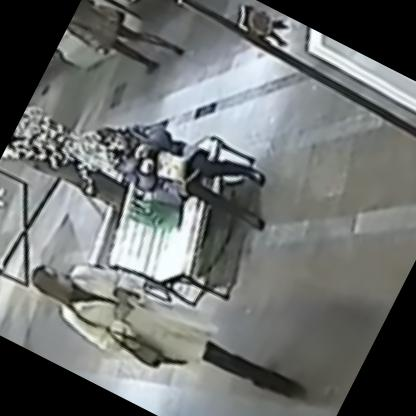Human Body: (14, 239, 310, 415), (81, 92, 288, 249), (63, 0, 191, 88)
